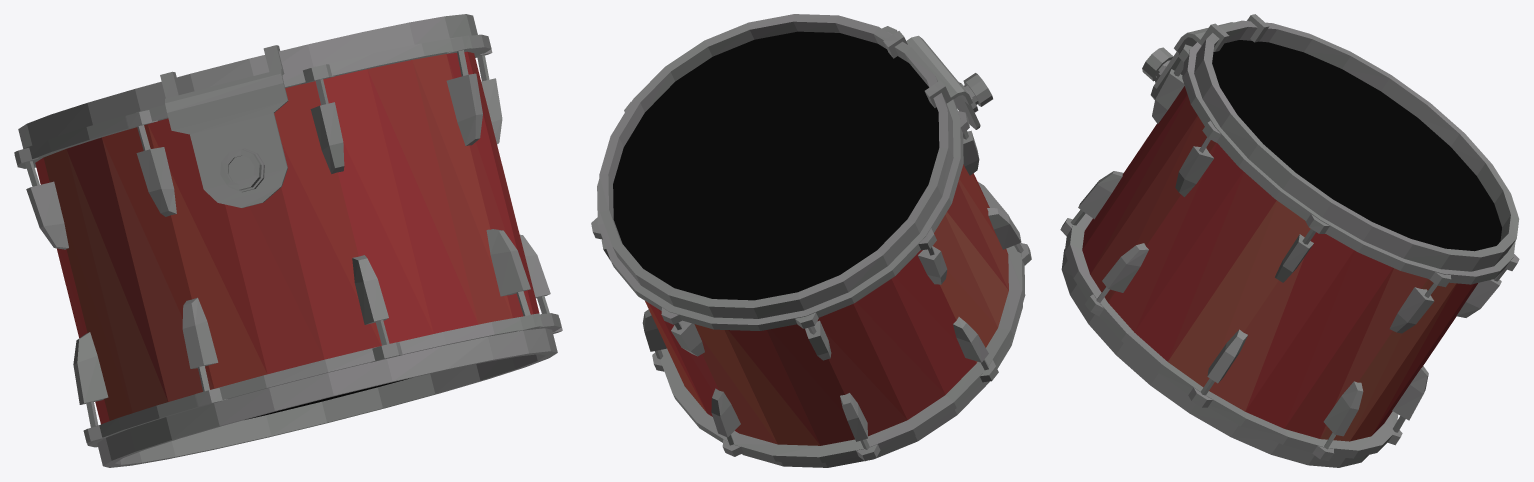
The model's file is drum2-head.fbx.
The picture shows the model from 3 angles, left to right: view 1: azimuth 30°, elevation 25°; view 2: azimuth 150°, elevation 25°; view 3: azimuth 270°, elevation 25°; orthographic projection. The views are drawn at different scales.
Parts seen in each view (by area): view 1: polySurface792; view 2: polySurface792; view 3: polySurface792.
Part boxes in pixels (bbox=[...]): polySurface792: bbox=[14, 14, 562, 467]; polySurface792: bbox=[591, 14, 1031, 467]; polySurface792: bbox=[1060, 14, 1519, 467].
Size of the model in its own units: 34.5 by 37.09 by 39.76.
